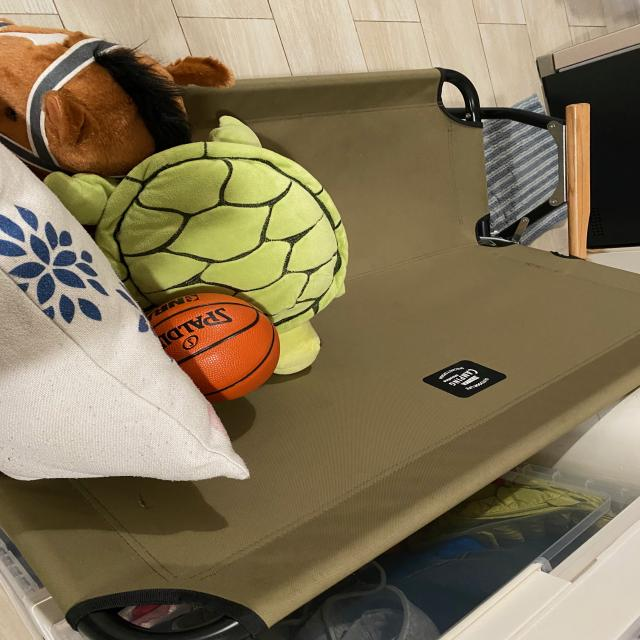Ball: (136, 284, 290, 411)
